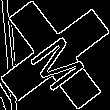M_NE: (21, 21, 89, 89)
